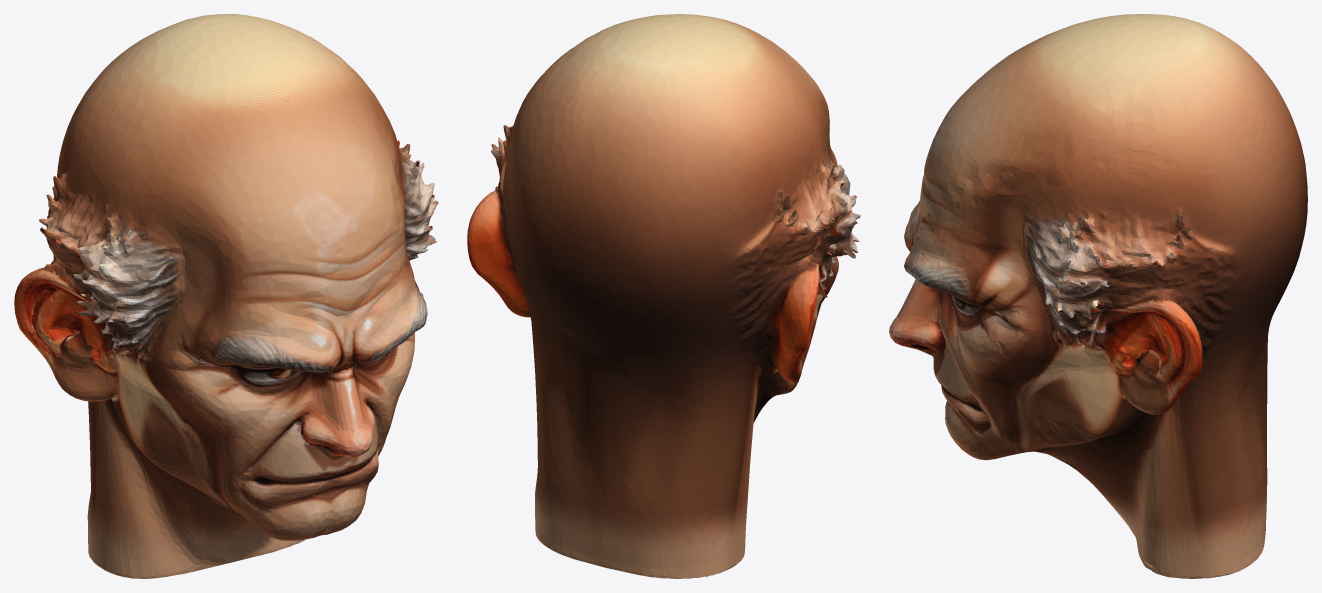
The model's file is side_beggarmonk_repaired_atlas.glb.
3 renders of one model, left to right at view 1: azimuth 30°, elevation 25°; view 2: azimuth 150°, elevation 25°; view 3: azimuth 270°, elevation 25°, orthographic. The views are drawn at different scales.
Parts seen in each view (by area): view 1: temp_mesh.ply; view 2: temp_mesh.ply; view 3: temp_mesh.ply.
Boxes of the visible parts, x1,y1,x2,y2 form: temp_mesh.ply: [14, 14, 438, 578]; temp_mesh.ply: [467, 14, 860, 578]; temp_mesh.ply: [889, 14, 1307, 578].
Bounding box in the file's own units: 0.9703 × 1.32 × 0.9975.
Materials: 1 (1 with a texture image).
